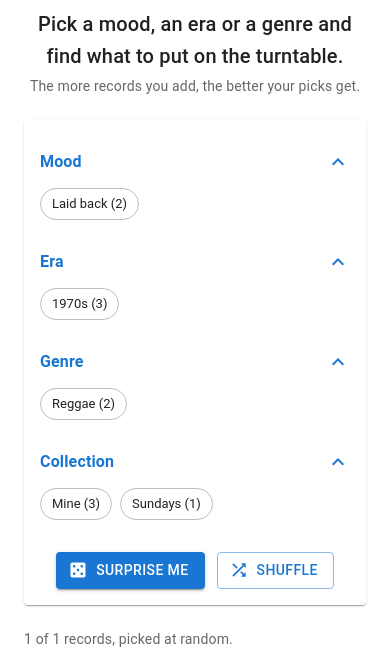
SpinningNow page › 'Surprise me' explains when nothing matches
The image size is (390, 665).
Click the button "Surprise me" at (130, 570), box [56, 552, 205, 588]
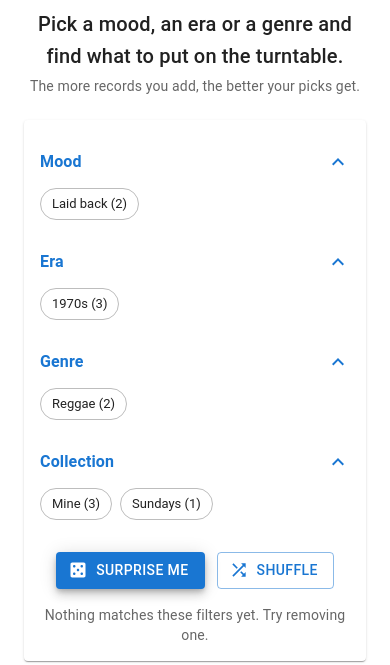
Result: the text "Nothing matches these filters yet. Try removing one." is shown at [40, 604, 350, 644]
